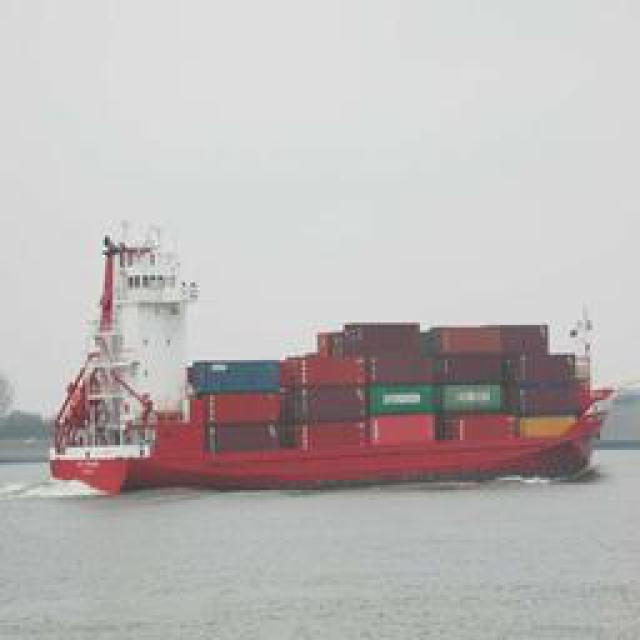Ship: (32, 298, 620, 496)
